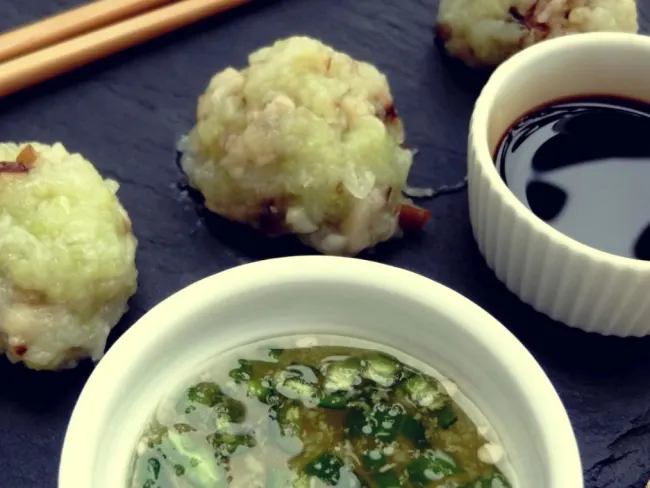Boulettes de chayottes: (165, 43, 440, 244), (1, 129, 148, 389), (371, 1, 650, 77)
sauce de Nuoc mam: (70, 315, 549, 488)
